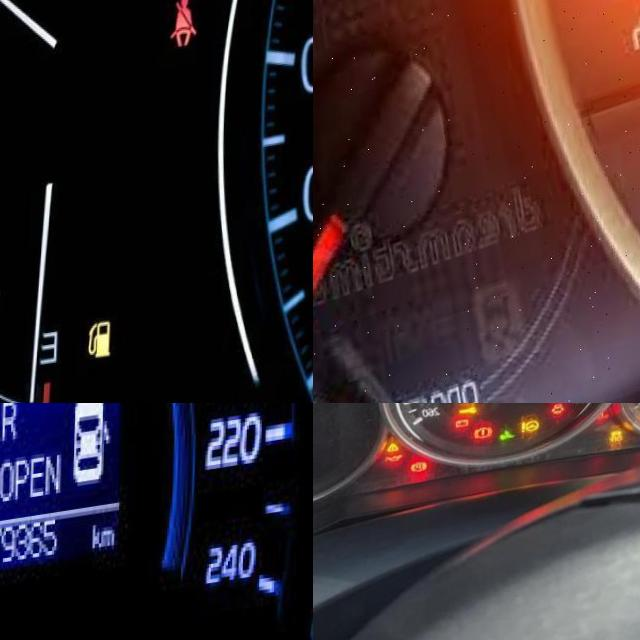Electronic Power Steering: (523, 431, 543, 447)
High Engine Coolant Temperature: (599, 425, 611, 435)
Seat Belt: (170, 3, 202, 60)
